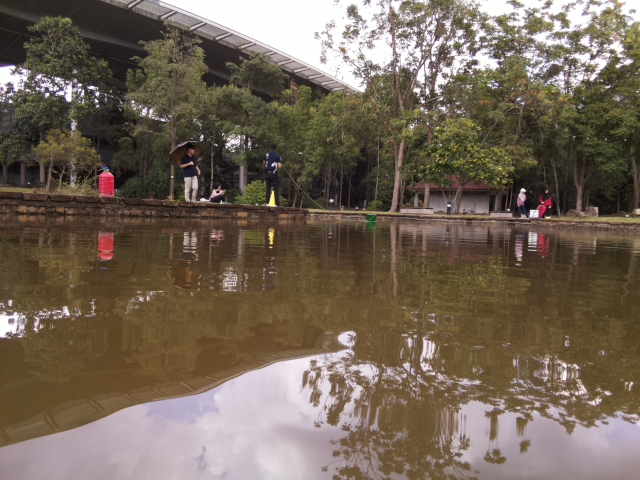checkpoint: (266, 189, 278, 210)
obstacle: (365, 214, 378, 223)
